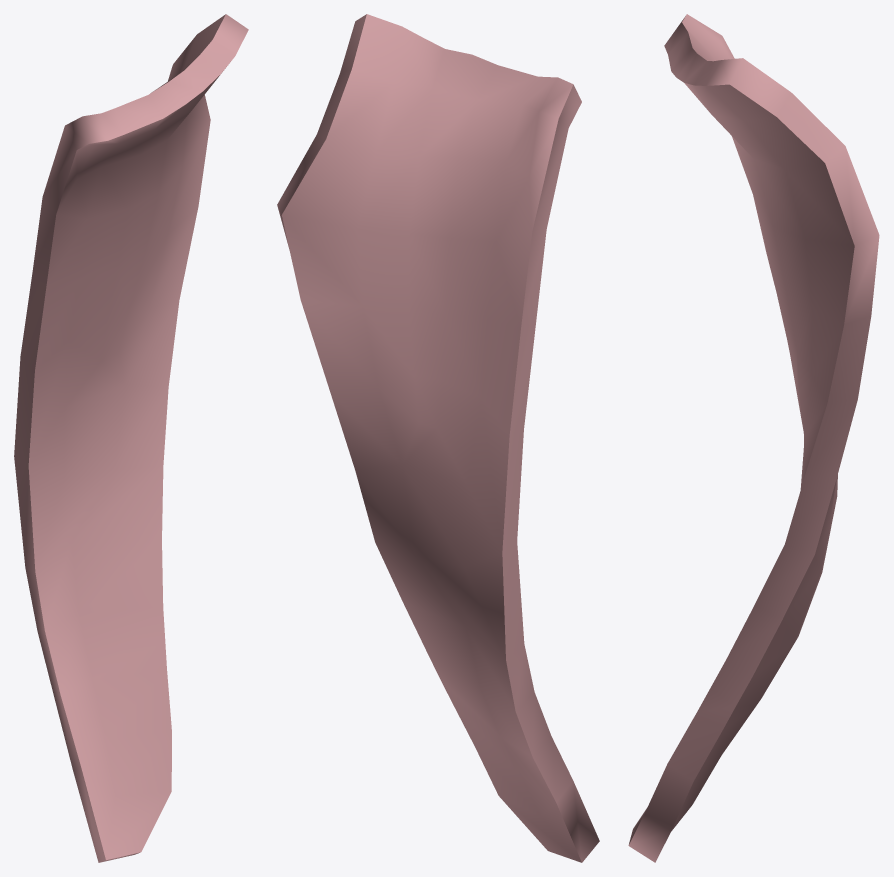
3 renders of one model, left to right at view 1: azimuth 30°, elevation 25°; view 2: azimuth 150°, elevation 25°; view 3: azimuth 270°, elevation 25°, orthographic. The views are drawn at different scales.
Parts seen in each view (by area): view 1: ZA_e0134eb9832718bf; view 2: ZA_e0134eb9832718bf; view 3: ZA_e0134eb9832718bf.
Part boxes in pixels (x1,y1,x2,y2): ZA_e0134eb9832718bf: (14,14,248,862); ZA_e0134eb9832718bf: (277,14,599,862); ZA_e0134eb9832718bf: (628,14,879,862).
Size of the model in its own units: 0.025 by 0.0911 by 0.0236.
